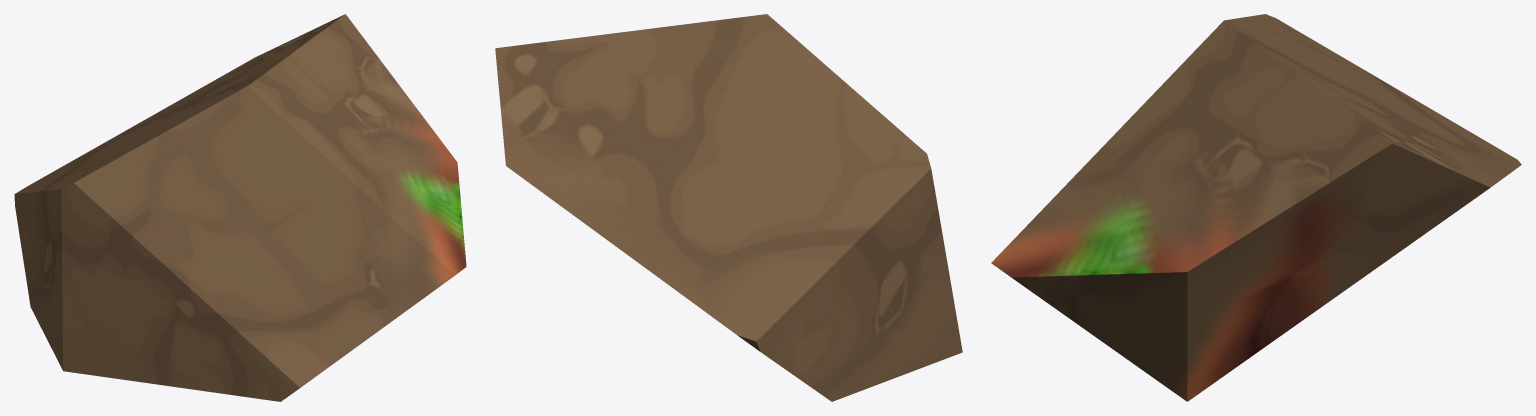
File: Roca2Mio.fbx
3 renders of one model, left to right at view 1: azimuth 30°, elevation 25°; view 2: azimuth 150°, elevation 25°; view 3: azimuth 270°, elevation 25°, orthographic. The views are drawn at different scales.
Parts seen in each view (by area): view 1: RocaEscenario2; view 2: RocaEscenario2; view 3: RocaEscenario2.
Part boxes in pixels (<box>): RocaEscenario2: <box>14,14,466,401</box>; RocaEscenario2: <box>495,14,962,401</box>; RocaEscenario2: <box>991,14,1521,401</box>.
Bounding box in the file's own units: 15.25 × 9.66 × 15.56.
Materials: 1 (1 with a texture image).
